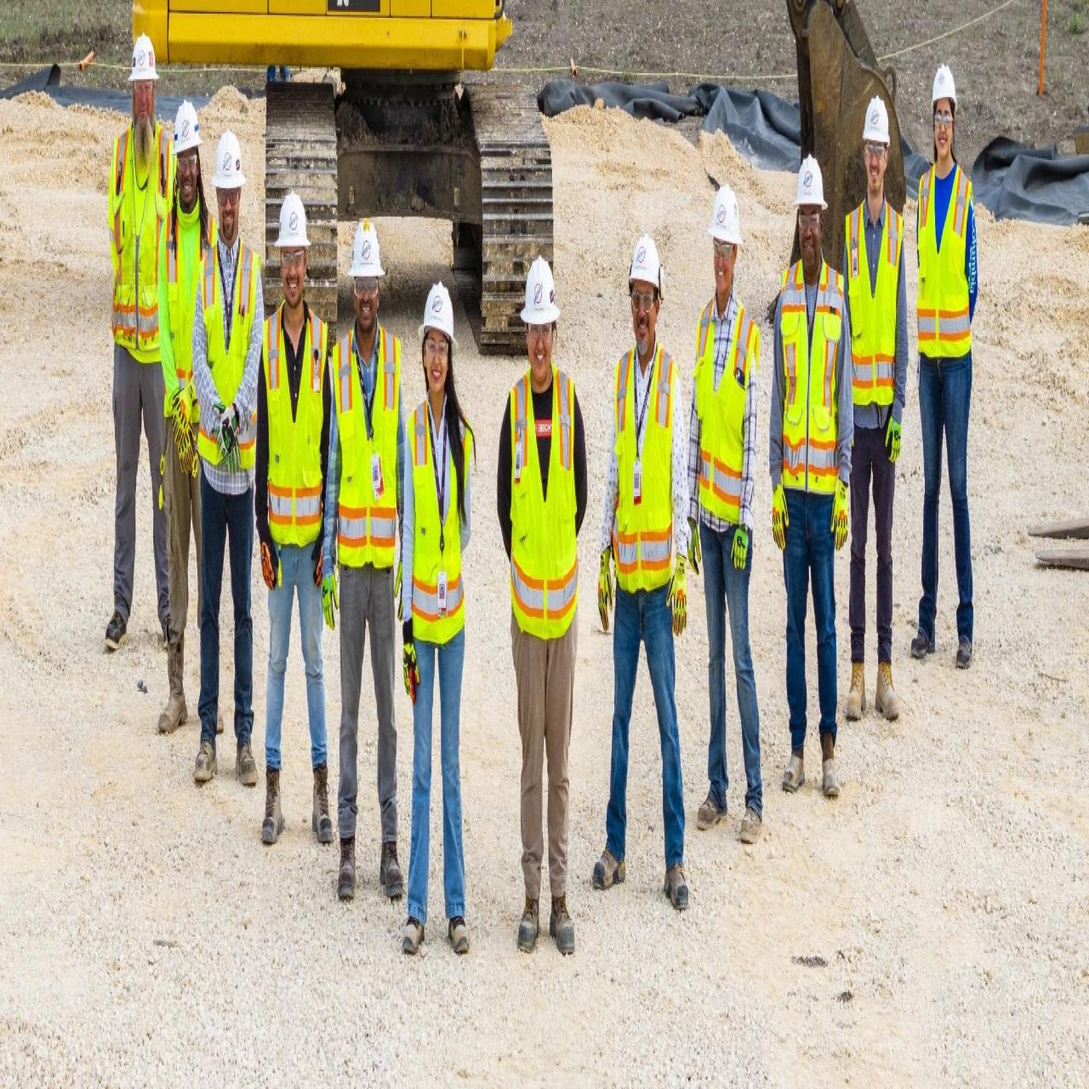Person: (590, 234, 691, 914), (495, 242, 590, 962), (768, 160, 857, 806), (685, 178, 770, 851), (325, 194, 405, 905), (254, 178, 336, 854), (400, 258, 470, 958), (103, 21, 175, 665), (191, 123, 259, 793), (909, 57, 980, 679), (157, 97, 225, 741), (845, 82, 910, 733)
Safety_Vest: (506, 368, 580, 643), (334, 322, 399, 574), (262, 302, 326, 554), (694, 296, 762, 527), (613, 345, 674, 599), (111, 120, 174, 364), (407, 395, 468, 642), (780, 265, 843, 502), (199, 241, 255, 472), (845, 200, 905, 415), (917, 163, 974, 367), (165, 207, 215, 412)
